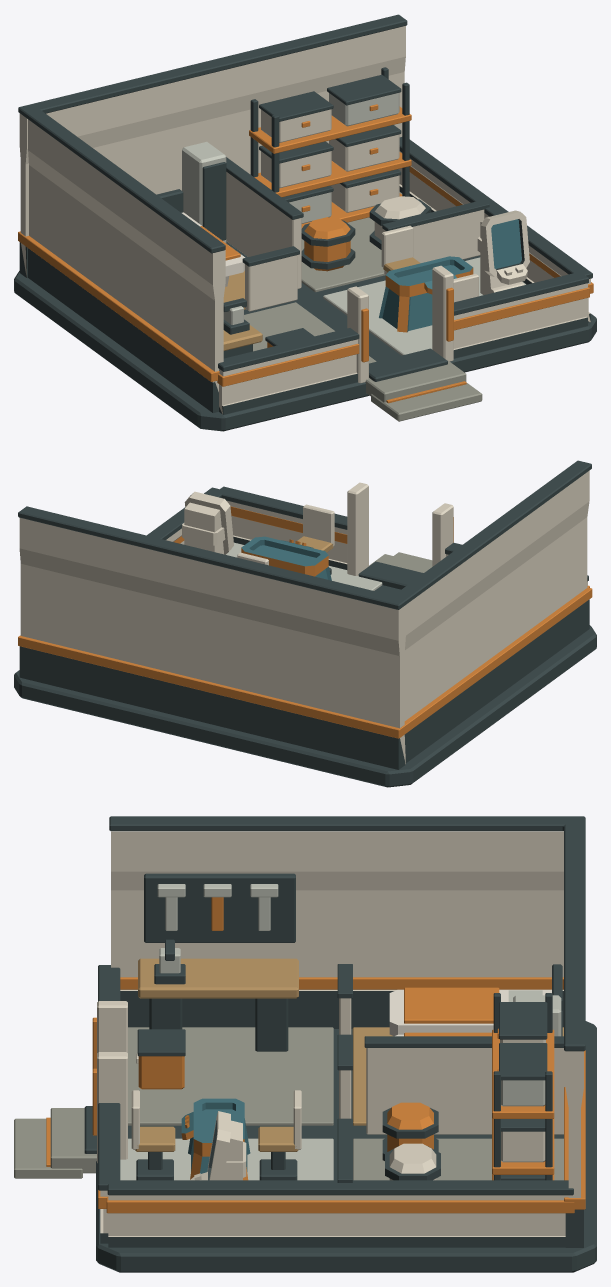
Rendered from habitat_cutaway_01.glb.
The picture shows the model from 3 angles, top to bottom: view 1: azimuth 30°, elevation 25°; view 2: azimuth 150°, elevation 25°; view 3: azimuth 270°, elevation 25°; orthographic projection. The views are drawn at different scales.
Parts seen in each view (by area): view 1: habitat_cutaway_01; view 2: habitat_cutaway_01; view 3: habitat_cutaway_01.
Boxes of the visible parts, x1,y1,x2,y2 form: habitat_cutaway_01: [14, 14, 596, 431]; habitat_cutaway_01: [14, 460, 596, 787]; habitat_cutaway_01: [14, 816, 596, 1272].
Size of the model in its own units: 6.9 by 3.01 by 7.1.
